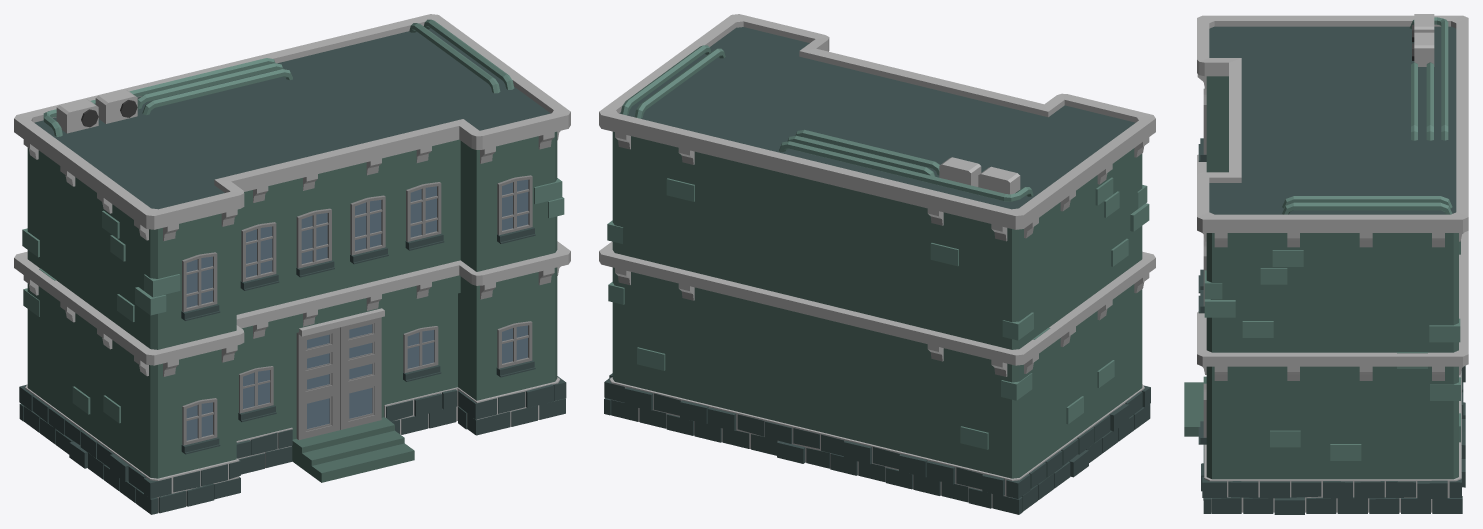
File: 2Story_Wide_Mat.glb
3 views of the same model, side by side, from view 1: azimuth 30°, elevation 25°; view 2: azimuth 150°, elevation 25°; view 3: azimuth 270°, elevation 25° (orthographic).
Parts seen in each view (by area): view 1: 2Story_Wide_Mat; view 2: 2Story_Wide_Mat; view 3: 2Story_Wide_Mat.
Boxes of the visible parts, x1,y1,x2,y2 form: 2Story_Wide_Mat: (14, 14, 570, 514); 2Story_Wide_Mat: (599, 14, 1155, 514); 2Story_Wide_Mat: (1184, 14, 1468, 514).
Size of the model in its own units: 3.83 by 2.75 by 2.26.
